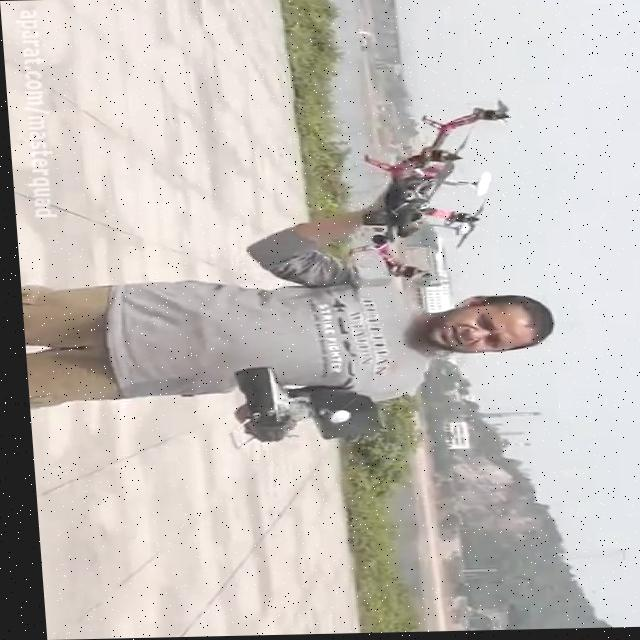drone: (335, 98, 524, 284)
